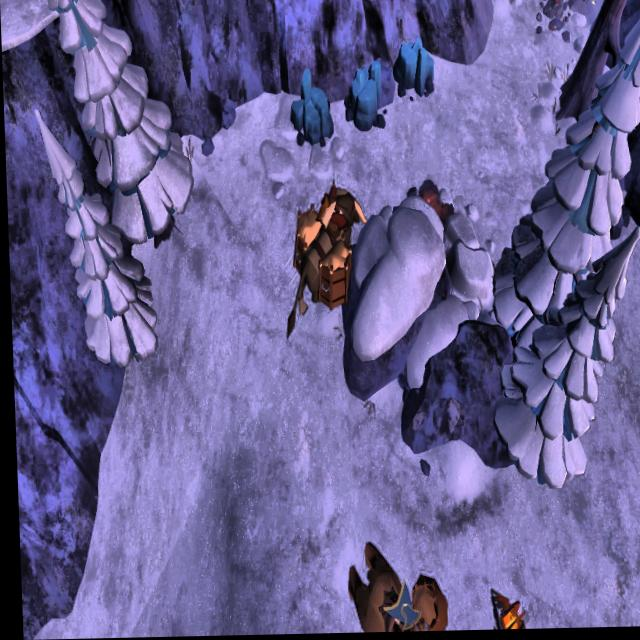rock_t4: (288, 67, 334, 152), (340, 59, 386, 136), (388, 39, 438, 100)
